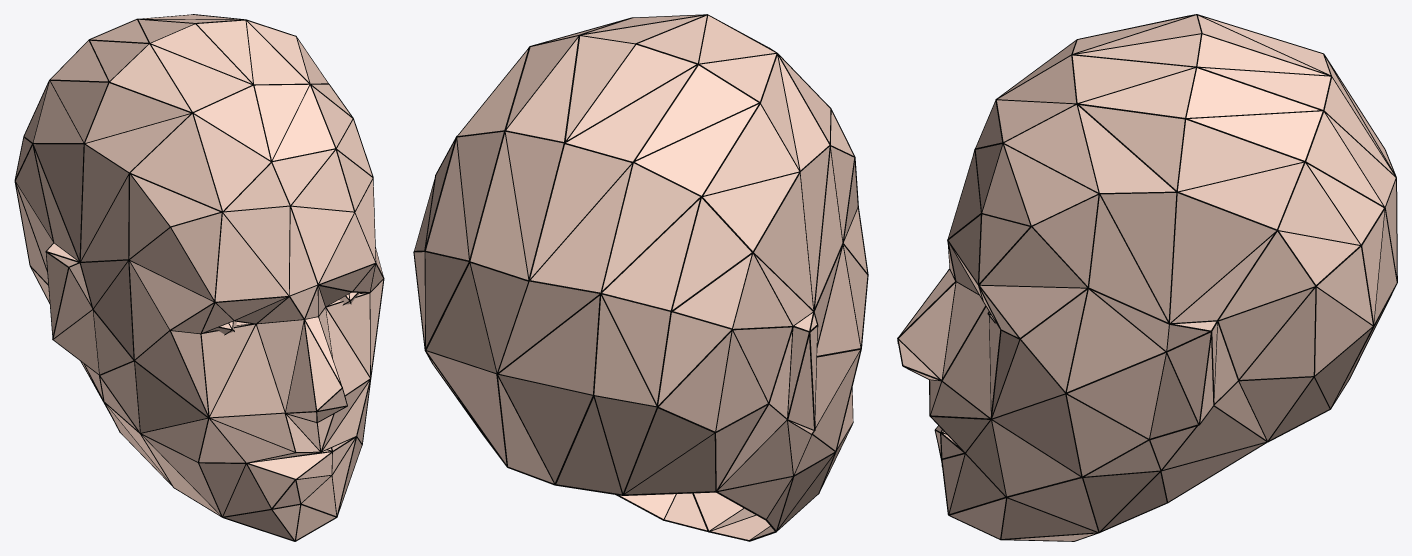
The model's file is player-pale.glb.
The picture shows the model from 3 angles, left to right: view 1: azimuth 30°, elevation 25°; view 2: azimuth 150°, elevation 25°; view 3: azimuth 270°, elevation 25°; orthographic projection. The views are drawn at different scales.
Visible parts, largest first — view 1: polySurface26 (×2); view 2: polySurface26 (×2); view 3: polySurface26 (×2).
Boxes of the visible parts, <box> form: polySurface26 (×2): <box>14,14,384,541</box>; polySurface26 (×2): <box>413,14,868,541</box>; polySurface26 (×2): <box>897,14,1397,541</box>.
Size of the model in its own units: 4.19 by 6.06 by 5.58.
